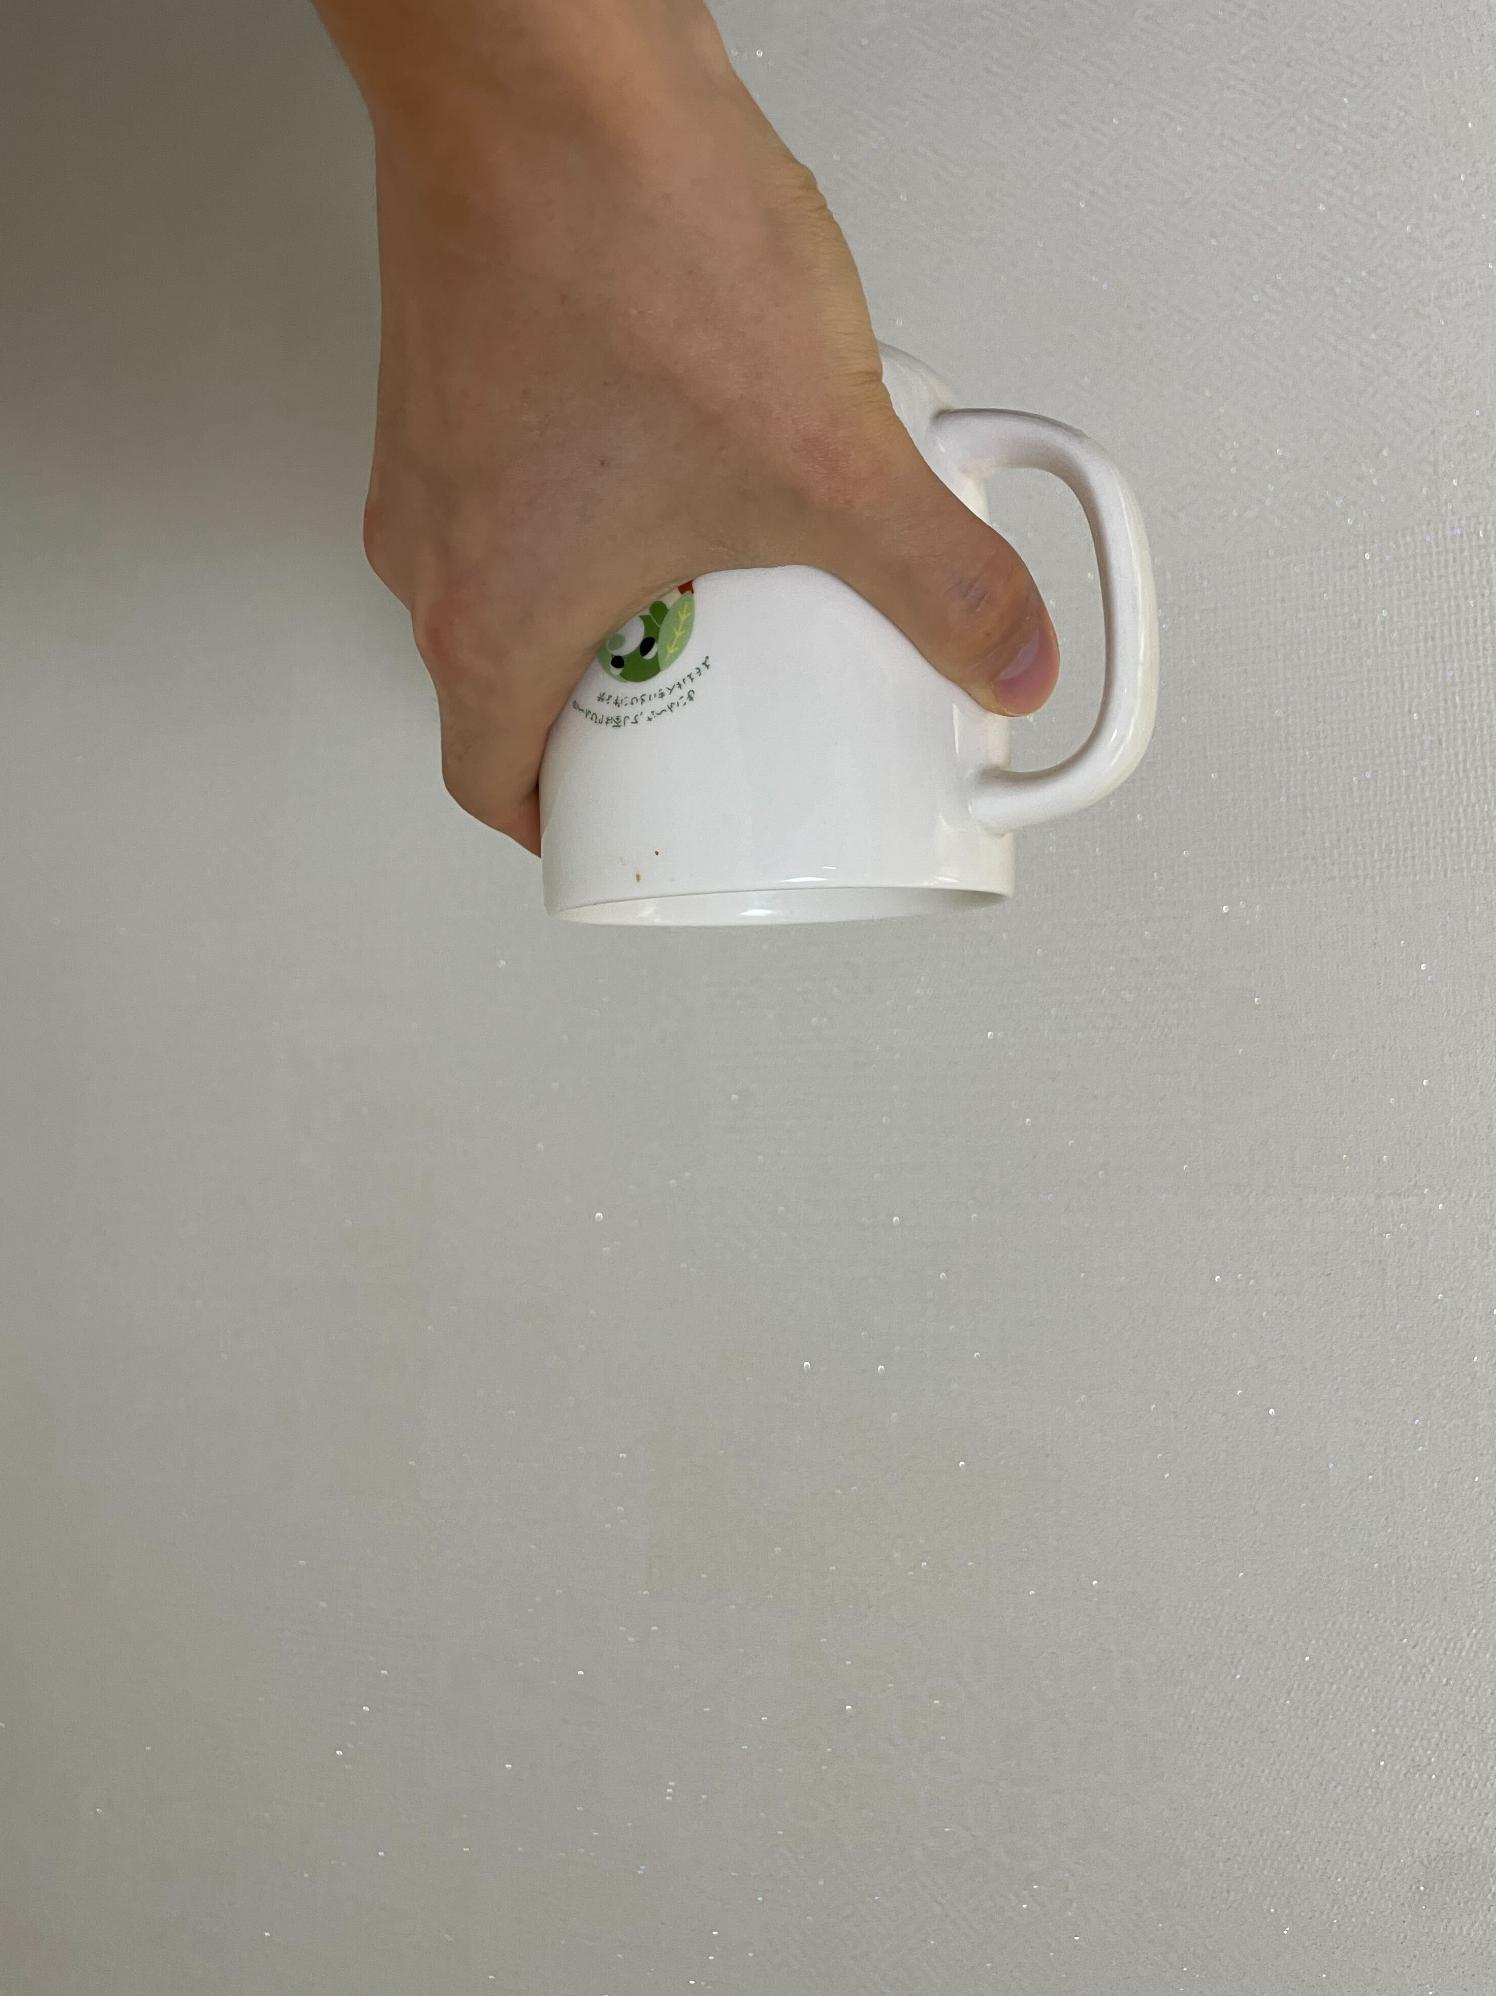cup: (339, 0, 1175, 940)
